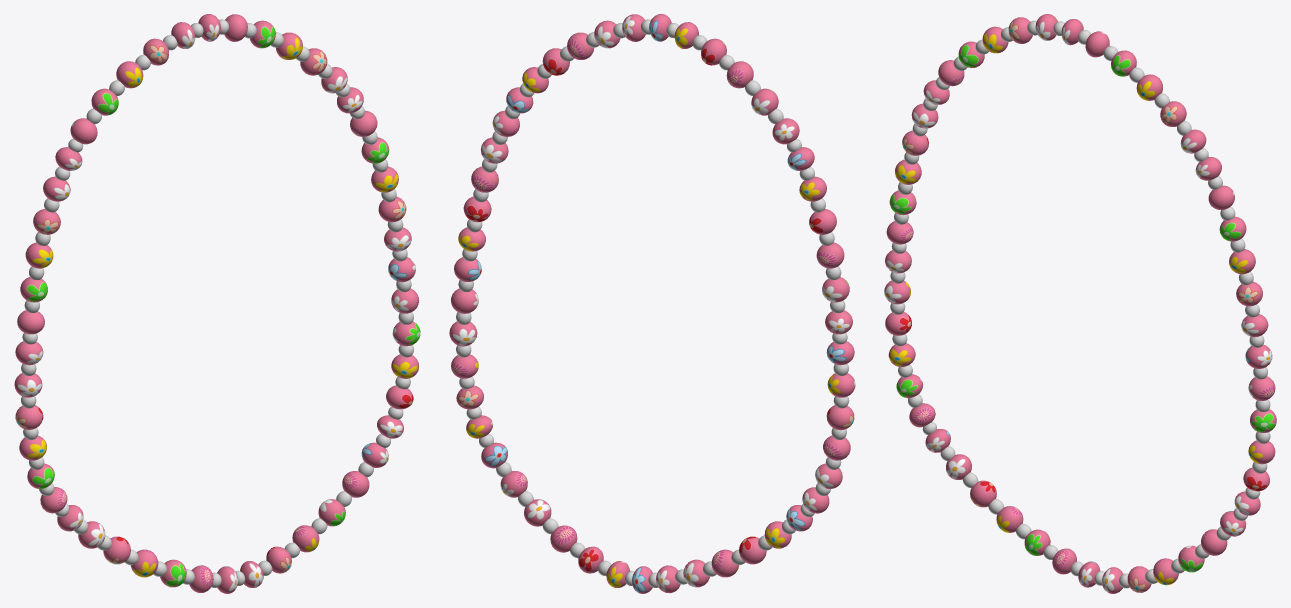
The model's file is necklace.obj.
3 renders of one model, left to right at view 1: azimuth 30°, elevation 25°; view 2: azimuth 150°, elevation 25°; view 3: azimuth 330°, elevation 25°, orthographic. The views are drawn at different scales.
Visible parts, largest first — view 1: Necklace03, Necklace04, Necklace08, Necklace07, Necklace06, Necklace02, Necklace01, Necklace05; view 2: Necklace03, Necklace04, Necklace08, Necklace07, Necklace06, Necklace02, Necklace01, Necklace05; view 3: Necklace01, Necklace06, Necklace05, Necklace02, Necklace07, Necklace03, Necklace08, Necklace04.
Part boxes in pixels (box(x1,y1,x2,y2)): Necklace03: box(15, 167, 70, 365); Necklace04: box(55, 22, 203, 170); Necklace08: box(235, 442, 388, 587); Necklace07: box(376, 257, 420, 447); Necklace06: box(337, 87, 411, 261); Necklace02: box(14, 363, 83, 531); Necklace01: box(74, 519, 237, 593); Necklace05: box(198, 14, 350, 97); Necklace03: box(799, 167, 854, 365); Necklace04: box(666, 22, 814, 170); Necklace08: box(481, 442, 634, 587); Necklace07: box(449, 257, 493, 447); Necklace06: box(458, 87, 533, 261); Necklace02: box(786, 363, 855, 531); Necklace01: box(632, 519, 795, 593); Necklace05: box(519, 14, 671, 97); Necklace01: box(940, 446, 1100, 587); Necklace06: box(1195, 157, 1268, 347); Necklace05: box(1061, 19, 1208, 161); Necklace02: box(884, 272, 950, 452); Necklace07: box(1233, 344, 1276, 520); Necklace03: box(885, 98, 938, 273); Necklace08: box(1094, 511, 1246, 593); Necklace04: box(923, 14, 1064, 104).
Bounding box in the file's own units: 17.95 × 24.81 × 1.09.
